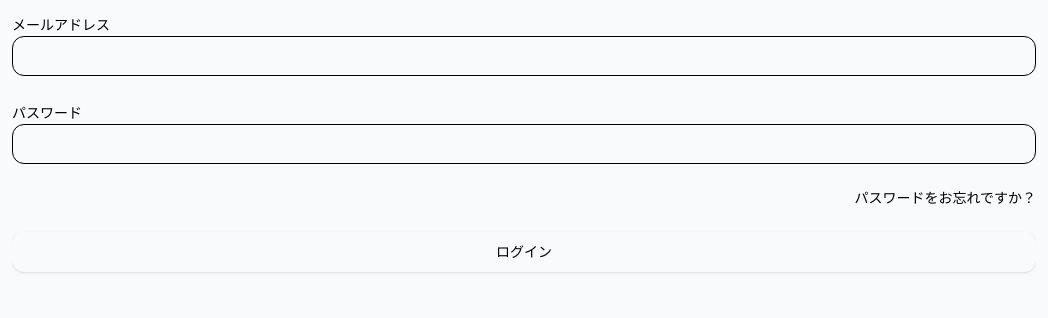
Test case: LoginForm › 短すぎるパスワードでバリデーションエラーが表示される
Type "1234567" into the password field labelled "パスワード" at [524, 144], box [12,124,1036,164]
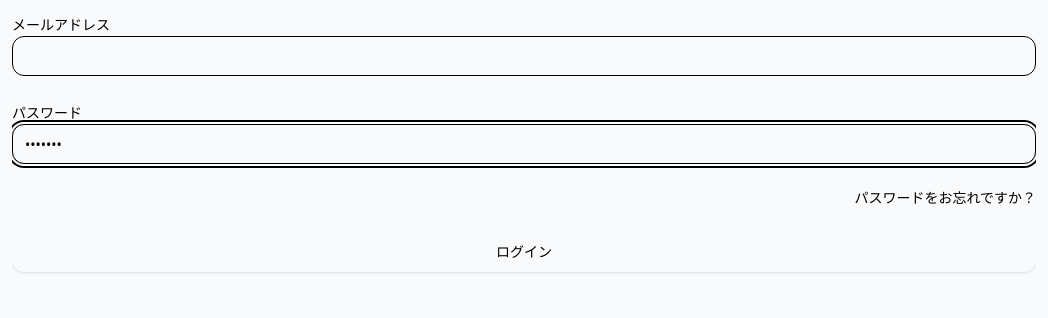
Press Tab
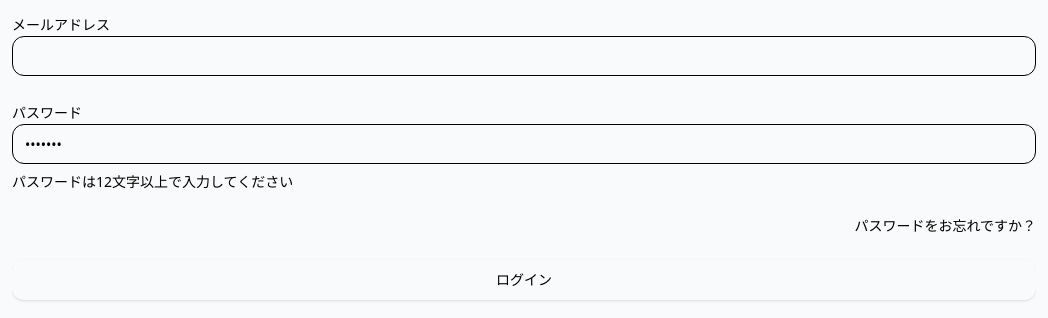
Result: the text "パスワードは12文字以上で入力してください" is shown at [12,172,293,191]
